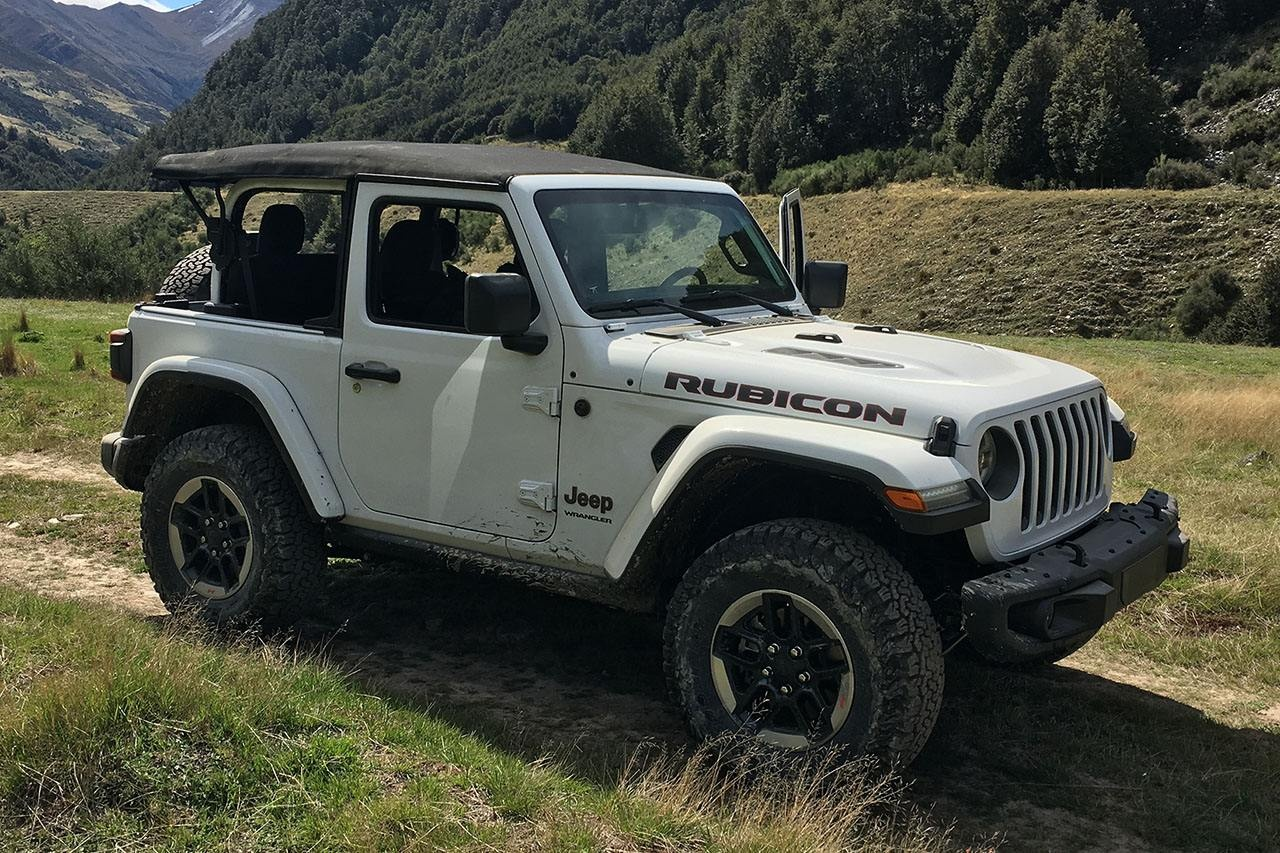jeep: (92, 107, 1185, 775)
